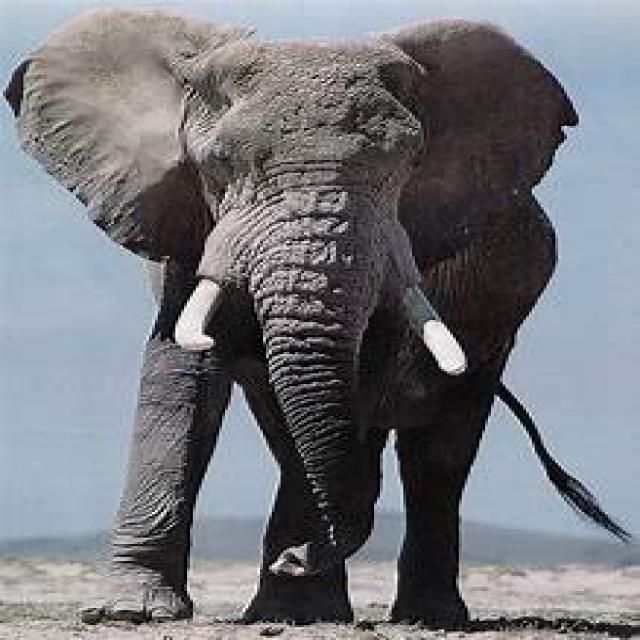elephant: (6, 9, 582, 634)
